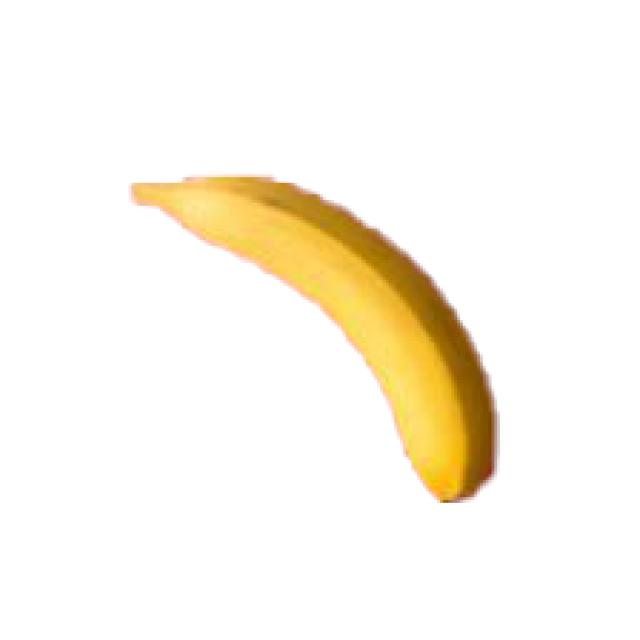fresh-banana: (129, 171, 497, 503)
